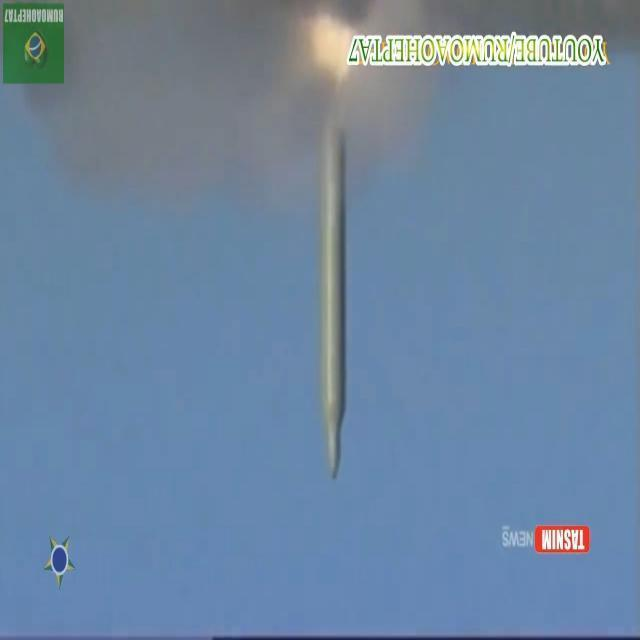missile: (312, 122, 350, 473)
